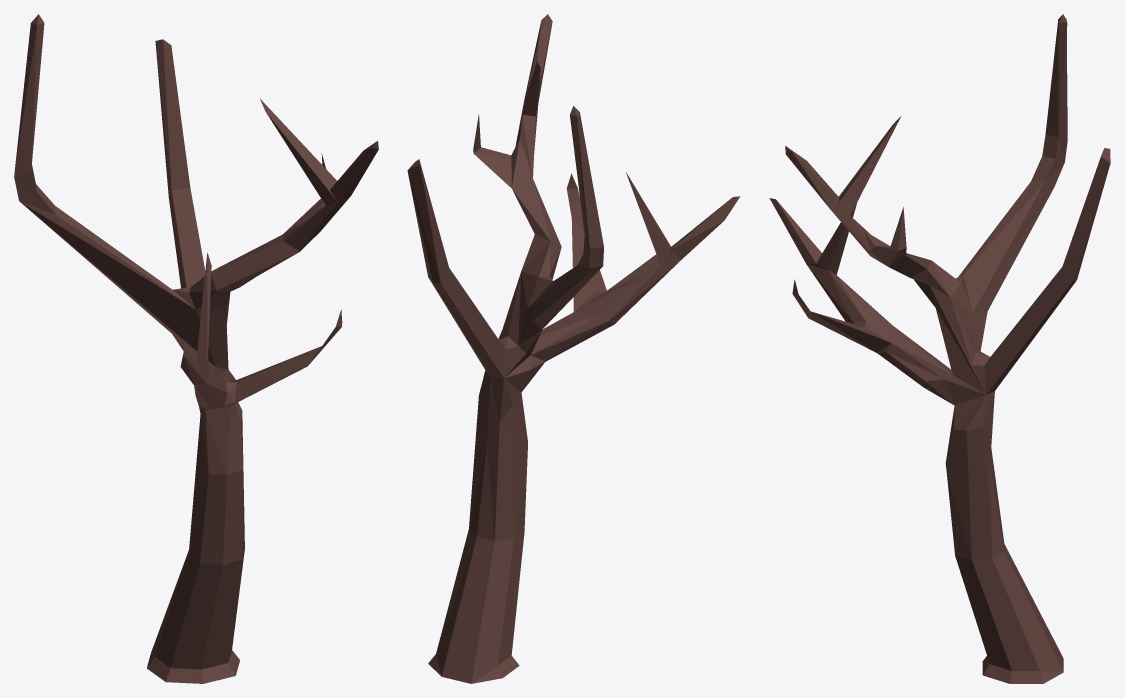
File: CommonTree_Dead_5_lod.glb
3 views of the same model, side by side, from view 1: azimuth 30°, elevation 25°; view 2: azimuth 150°, elevation 25°; view 3: azimuth 270°, elevation 25° (orthographic). The views are drawn at different scales.
Parts seen in each view (by area): view 1: CommonTree_Dead_5; view 2: CommonTree_Dead_5; view 3: CommonTree_Dead_5.
Part boxes in pixels (x1,y1,x2,y2): CommonTree_Dead_5: [14, 14, 378, 683]; CommonTree_Dead_5: [407, 14, 740, 683]; CommonTree_Dead_5: [769, 14, 1110, 683].
Size of the model in its own units: 0.8352 by 2.29 by 1.19.
